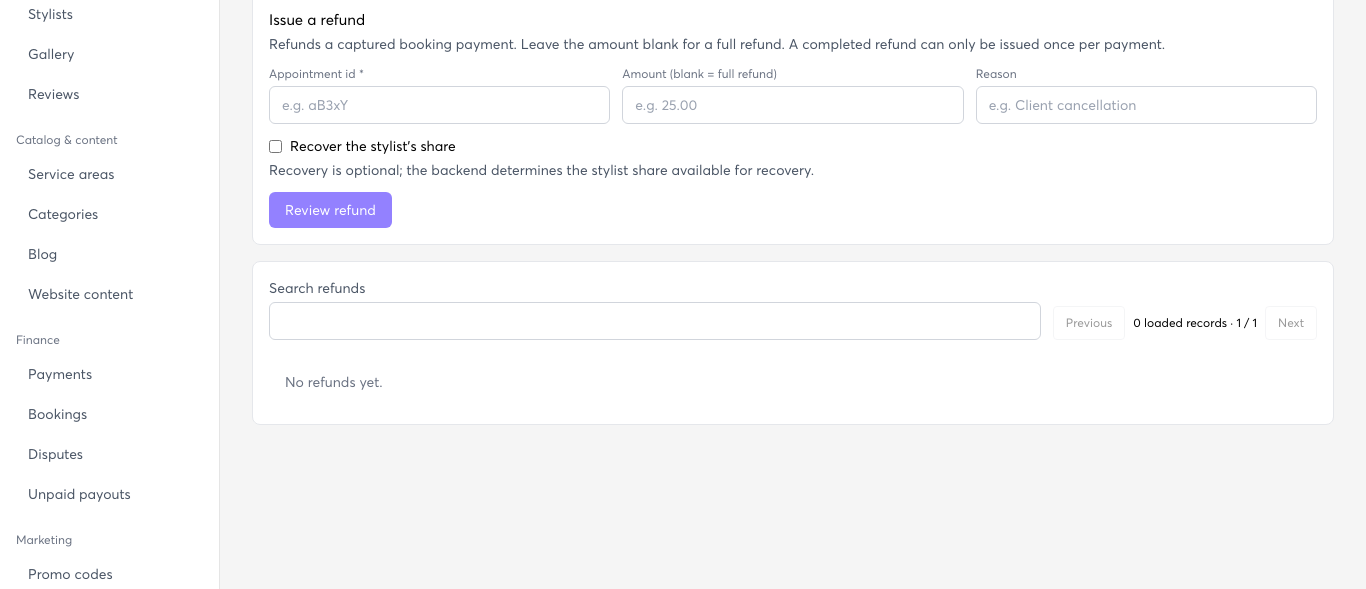
Test: shows inline validation and clears password even when confirmation is invalid
Expected: the text "No refunds yet." is shown, 285,373 -> 382,390
Type "appt-42" into the field labelled "Appointment id *" at (440, 105), box 269,86 -> 610,124
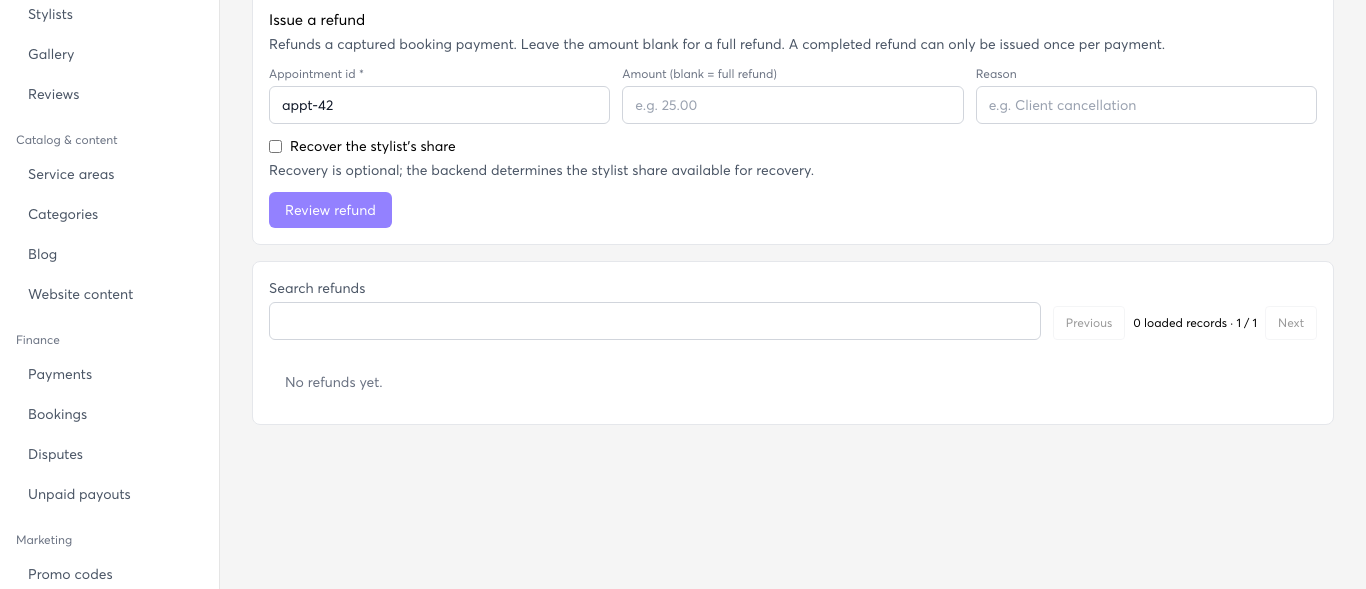
Type "25.50" into the number field labelled "Amount (blank = full refund)" at (793, 105), box 622,86 -> 964,124
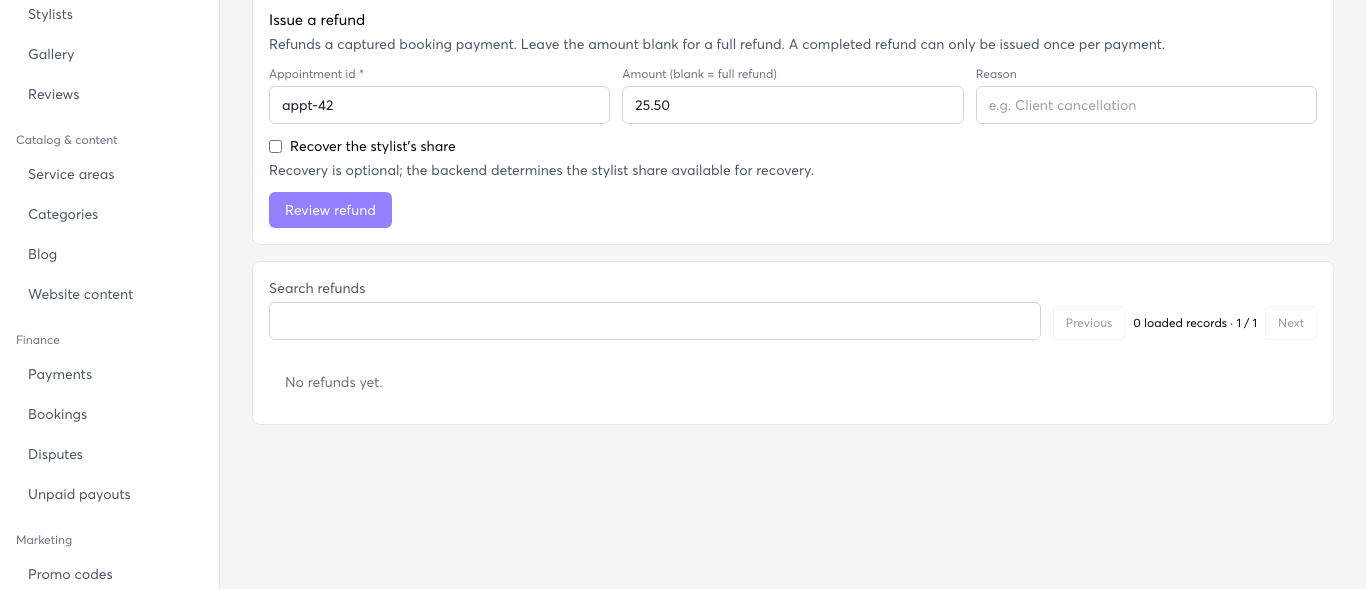
Type "Client cancellation" into the field labelled "Reason" at (1146, 105), box 976,86 -> 1317,124
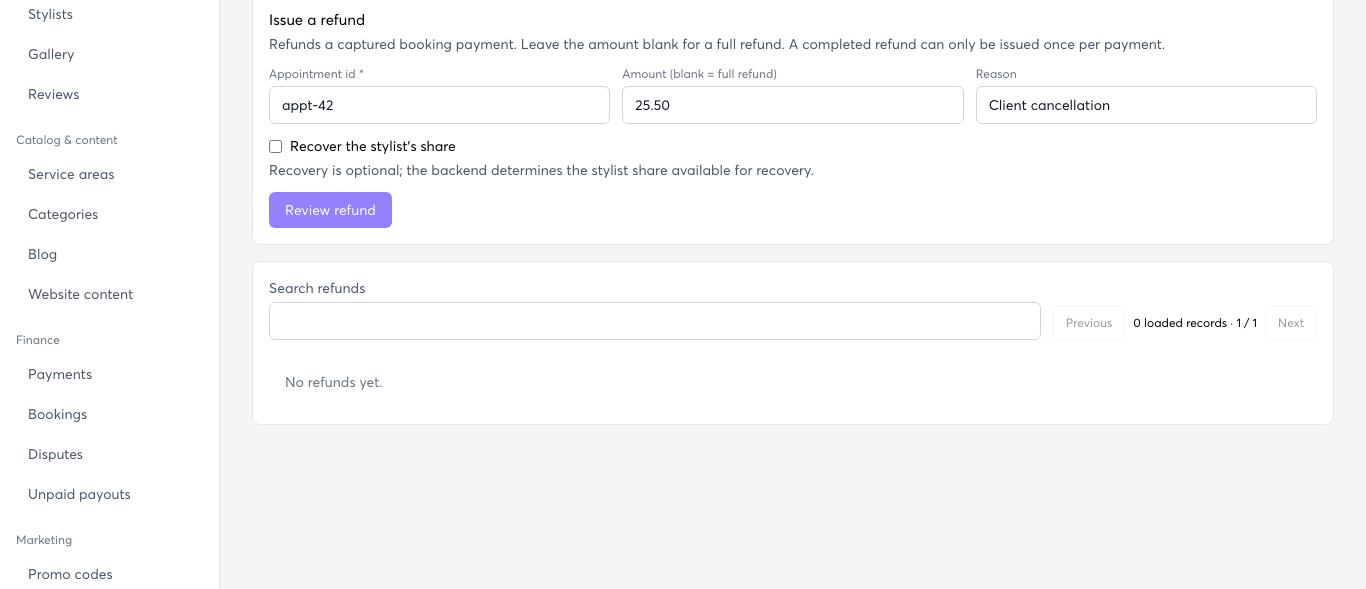
Click the button "Review refund" at (330, 210), box 269,192 -> 392,228
(page scrolled)
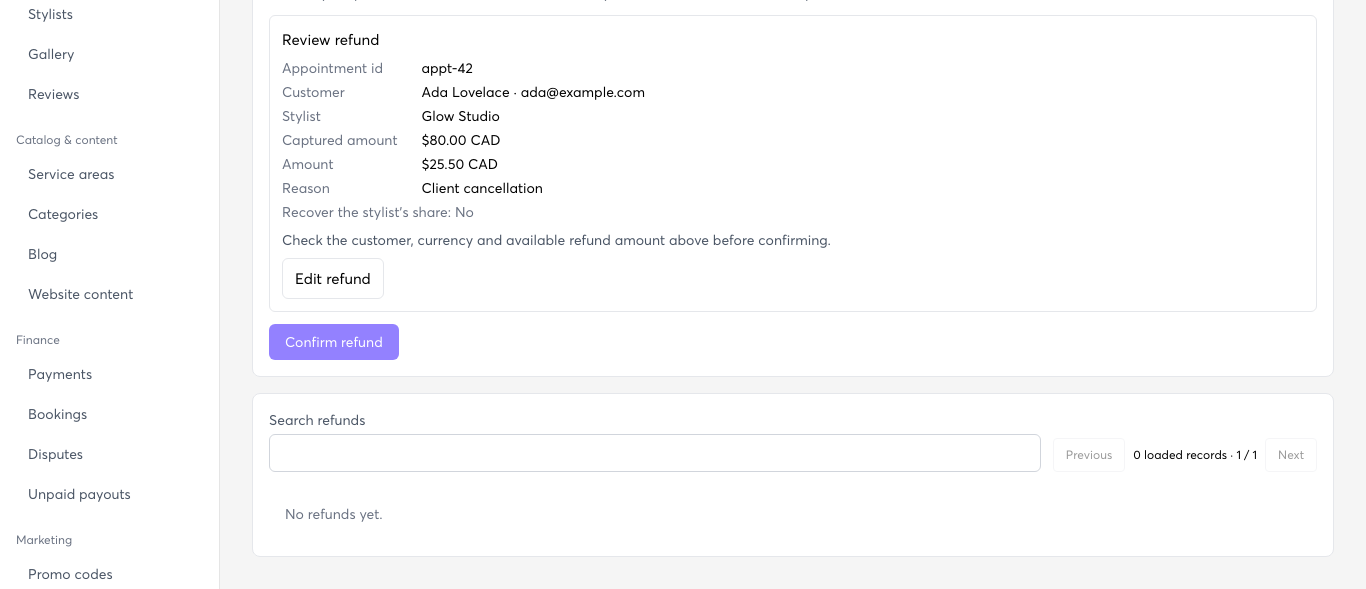
Click the button "Confirm refund" at (334, 342), box 269,324 -> 399,360
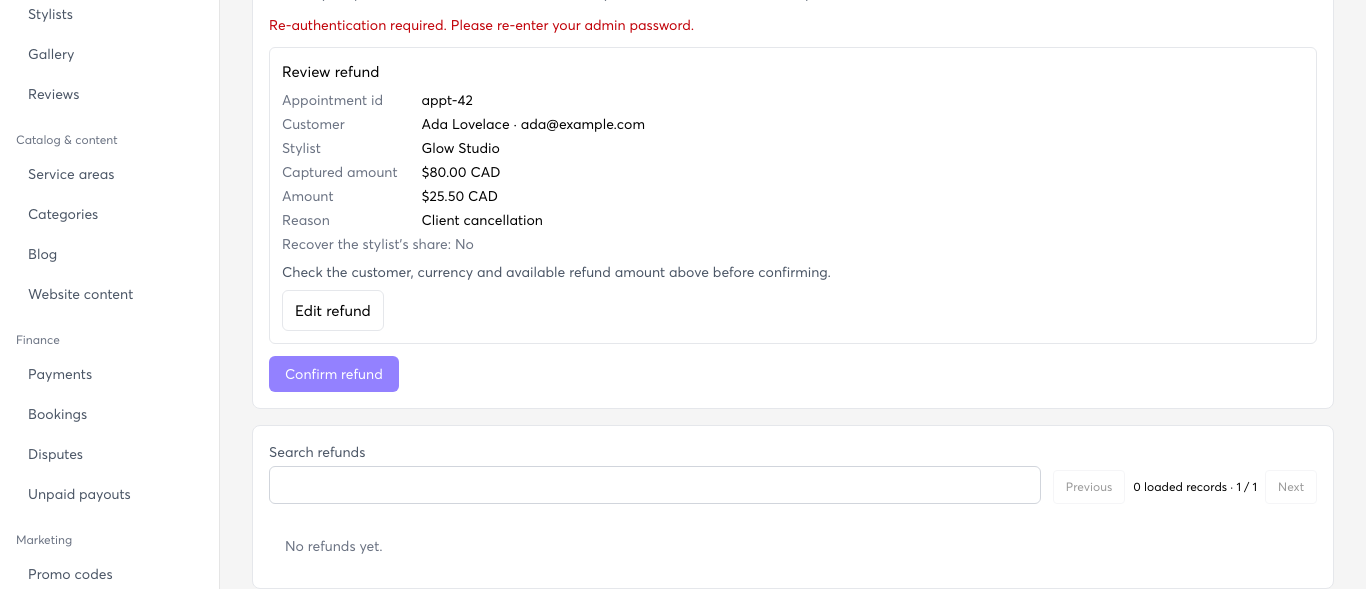
Expected: the message shows "password", 269,16 -> 694,33
